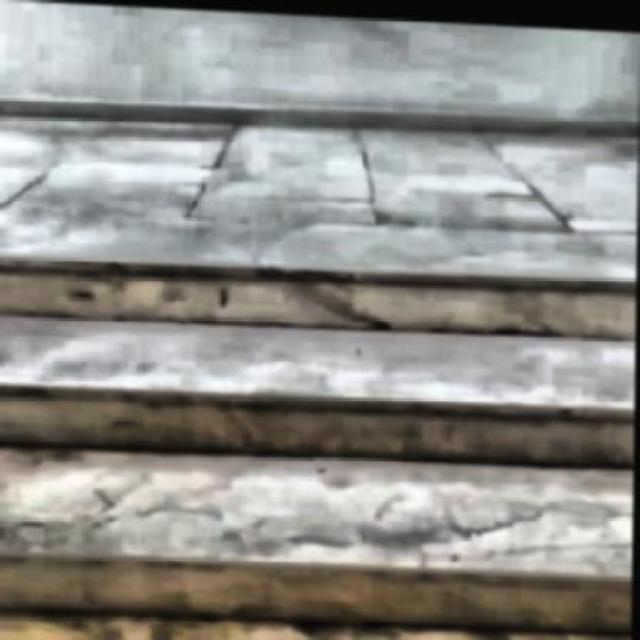stair: (0, 247, 637, 638)
